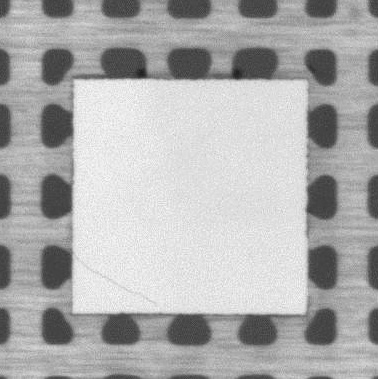DIE_CRACK: (74, 252, 160, 307)
